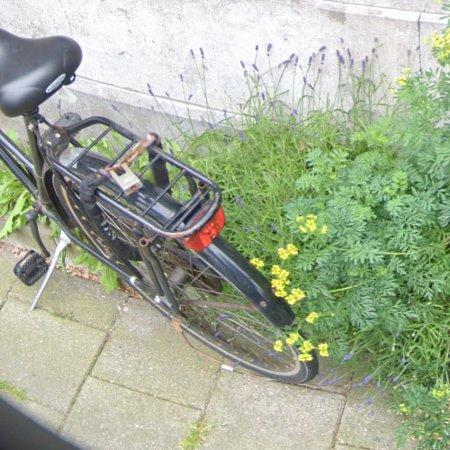bicycles: (0, 29, 317, 384)
